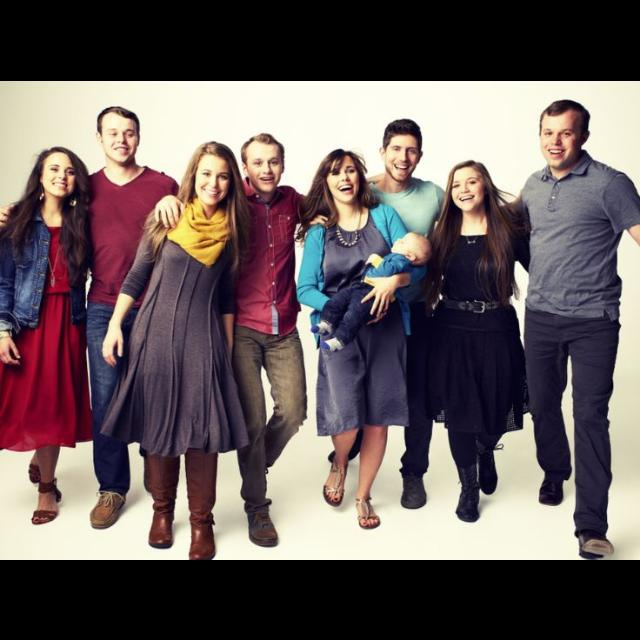head: (539, 100, 591, 170), (94, 105, 144, 167), (193, 140, 237, 206), (240, 132, 286, 194), (380, 120, 424, 182), (448, 160, 492, 213), (322, 152, 364, 202), (38, 148, 78, 198), (391, 232, 434, 266)
person: (153, 131, 407, 549), (0, 105, 218, 531), (301, 115, 521, 511), (394, 156, 572, 524), (292, 146, 430, 532), (0, 144, 124, 526), (310, 230, 434, 354)
